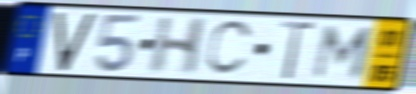5: (93, 13, 144, 75)
C: (203, 19, 256, 78)
H: (146, 16, 211, 77)
M: (309, 23, 377, 81)
T: (277, 19, 319, 82)
V: (53, 11, 99, 73)
